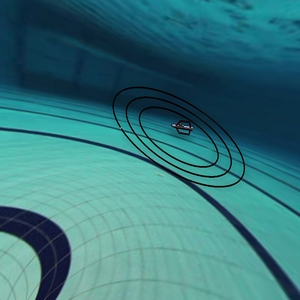circle: (108, 78, 256, 209)
submarine: (166, 116, 200, 145)
